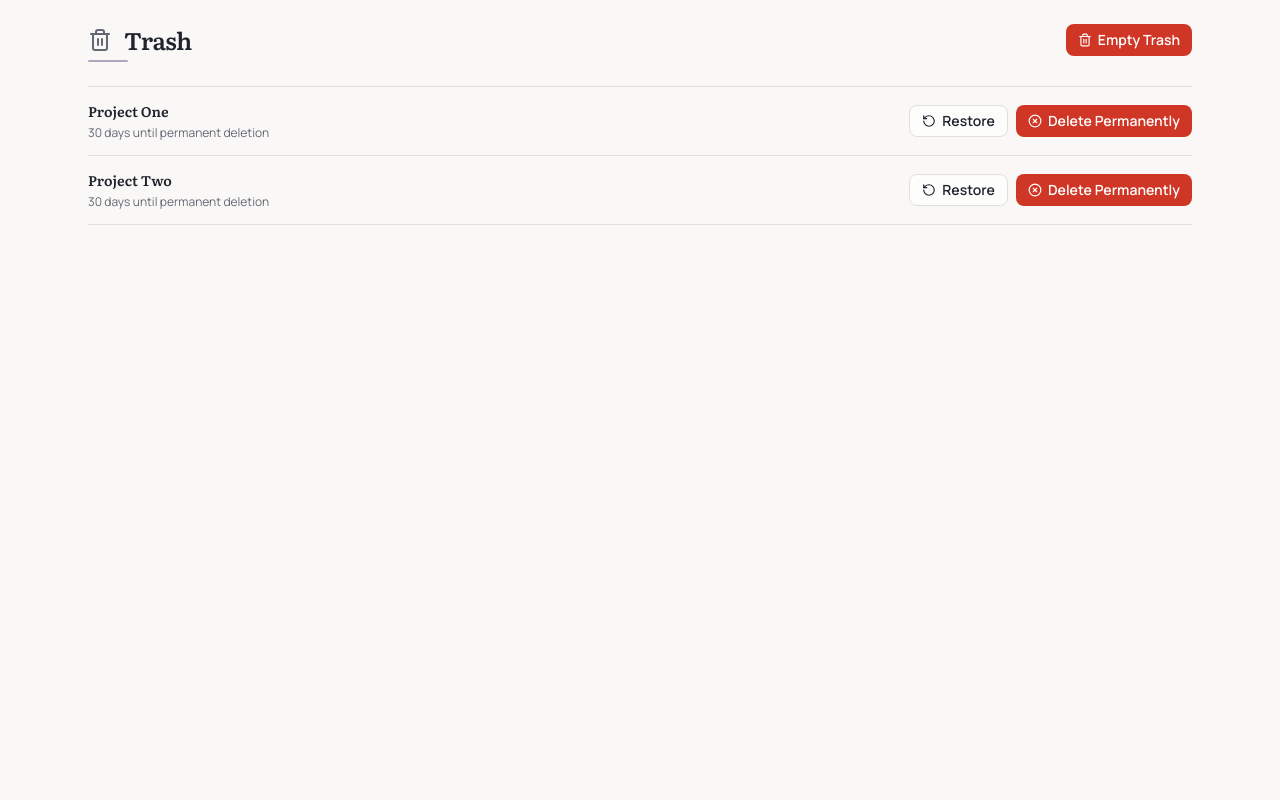
TrashPage: permanent-delete confirmation flow (per project) › Cancel closes the dialog without deleting
Click the button "Delete Permanently" in the row of "Project One": (1104, 121) [1016,105,1192,137]
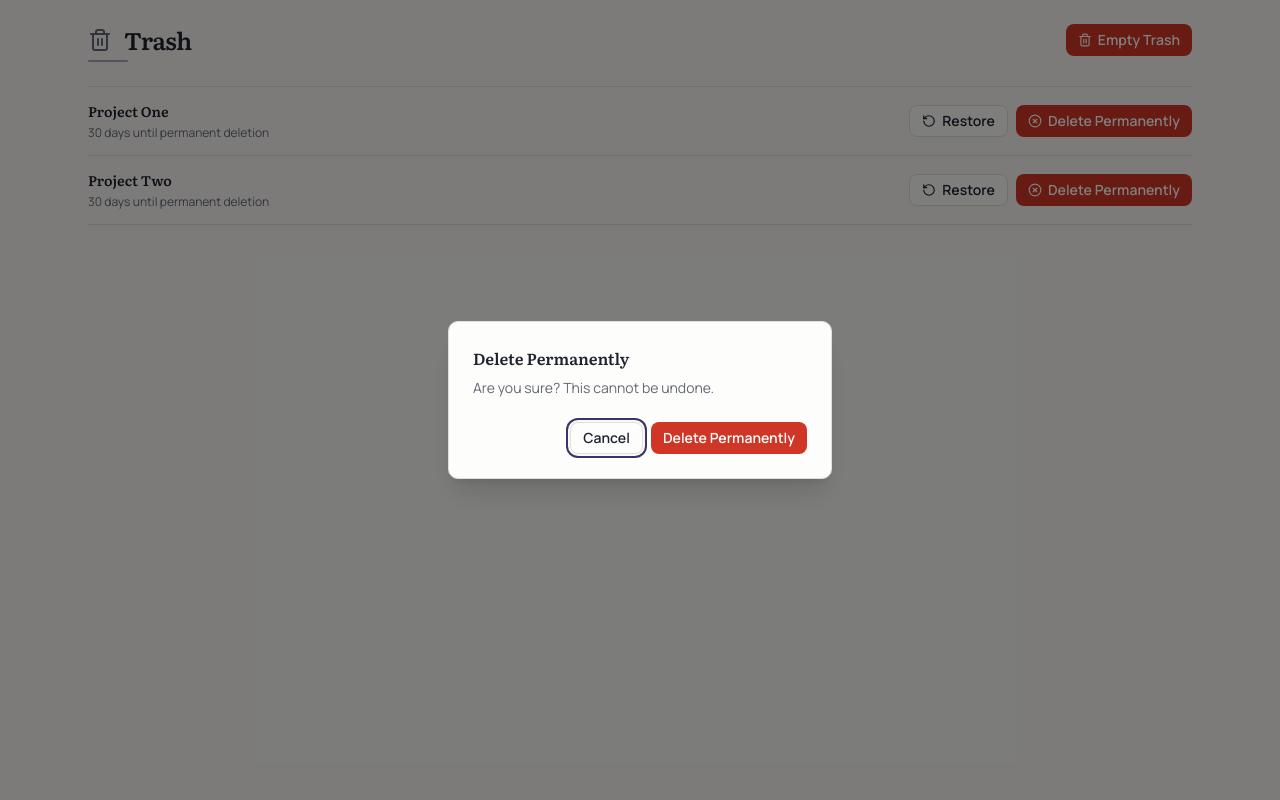
Click the button "Cancel": (607, 438) [570,422,643,454]
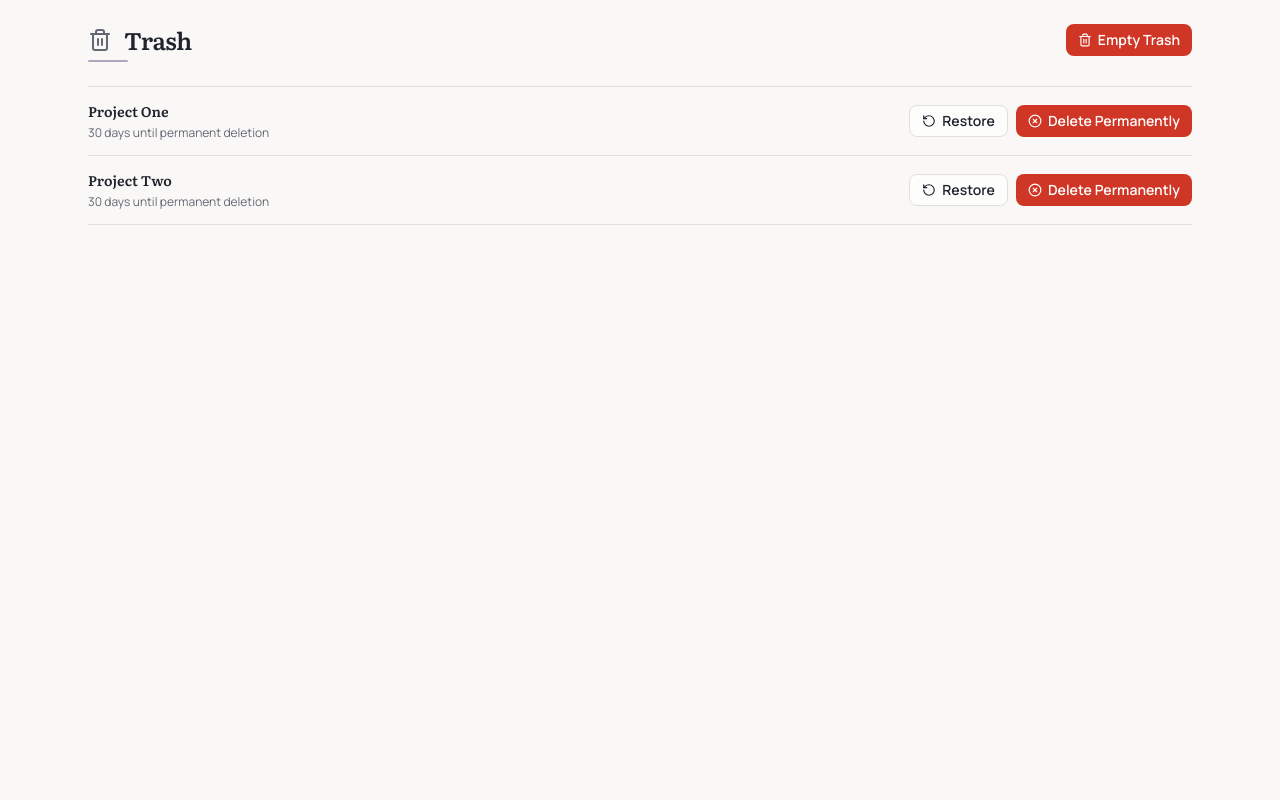
Expected: the dialog is gone
